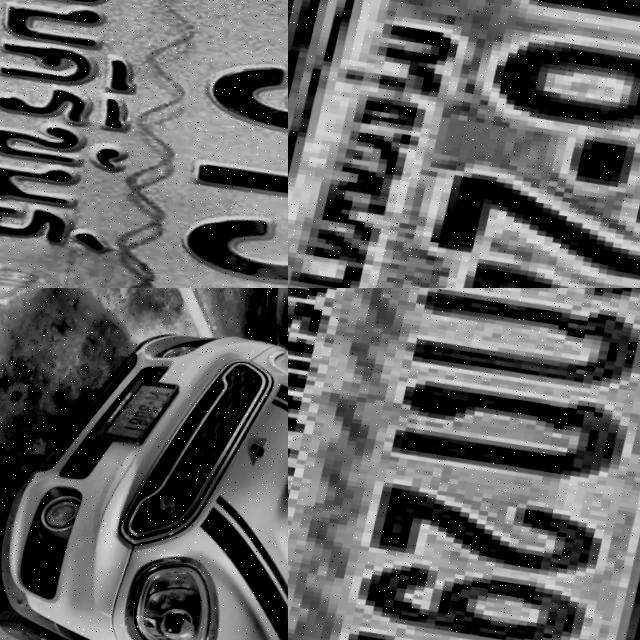license-plate: (288, 288, 640, 640), (288, 0, 640, 288), (0, 0, 288, 288), (95, 371, 189, 455)
